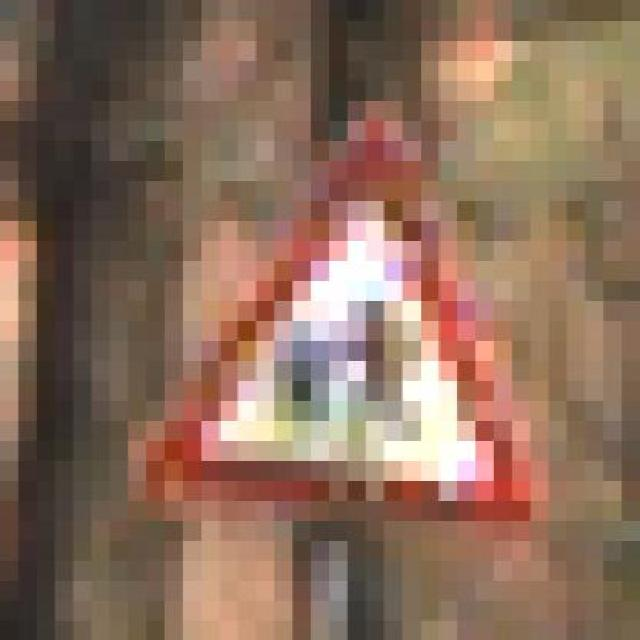Beware of children: (165, 100, 549, 540)
